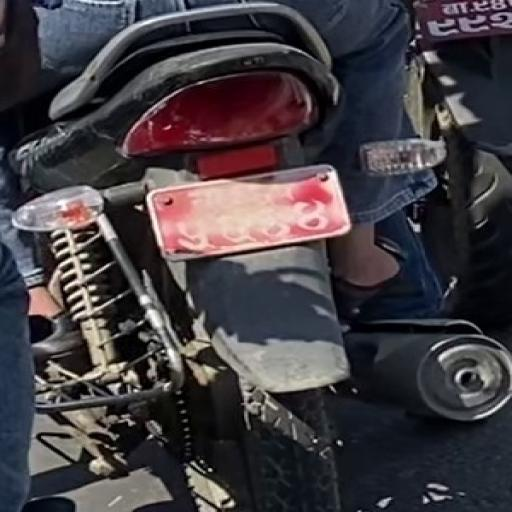license_plate: (143, 159, 360, 267)
